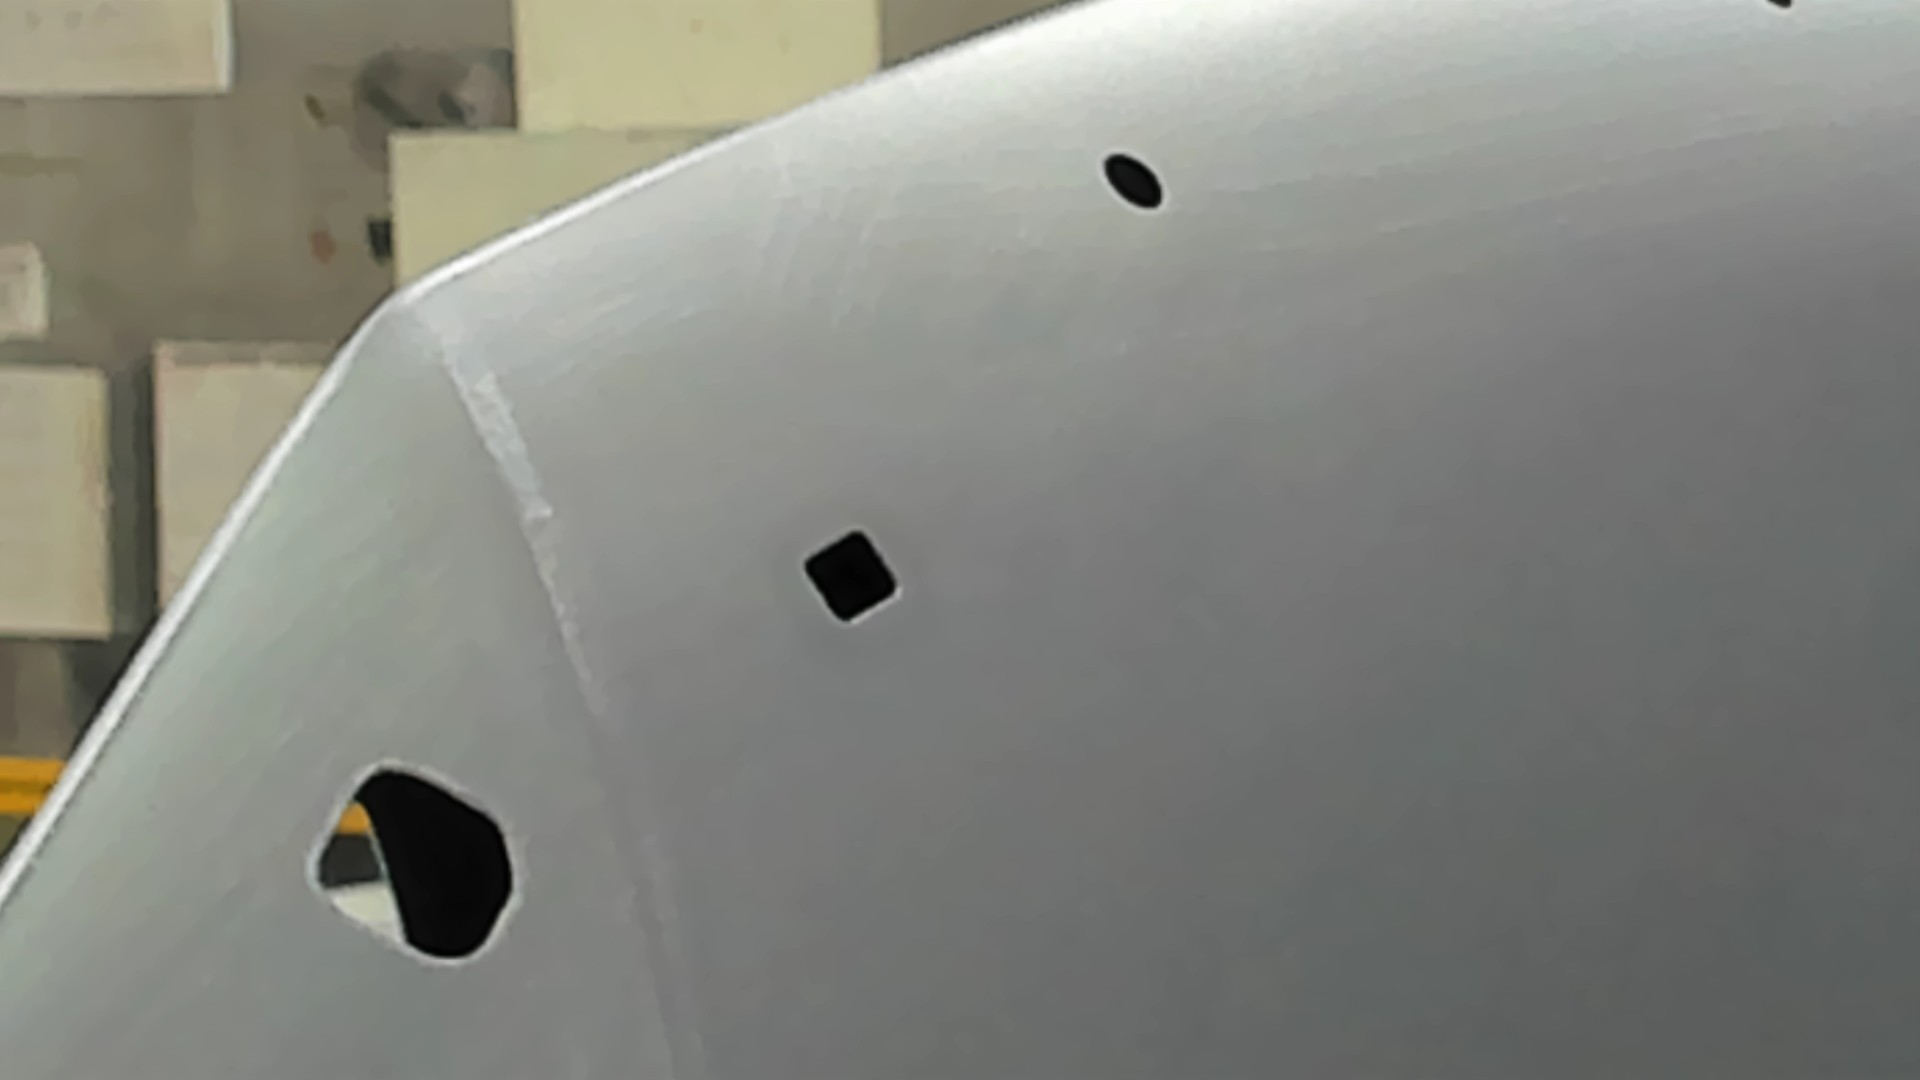chico: (1095, 149, 1168, 216)
grande: (303, 753, 526, 978)
mediano: (796, 520, 905, 632)
